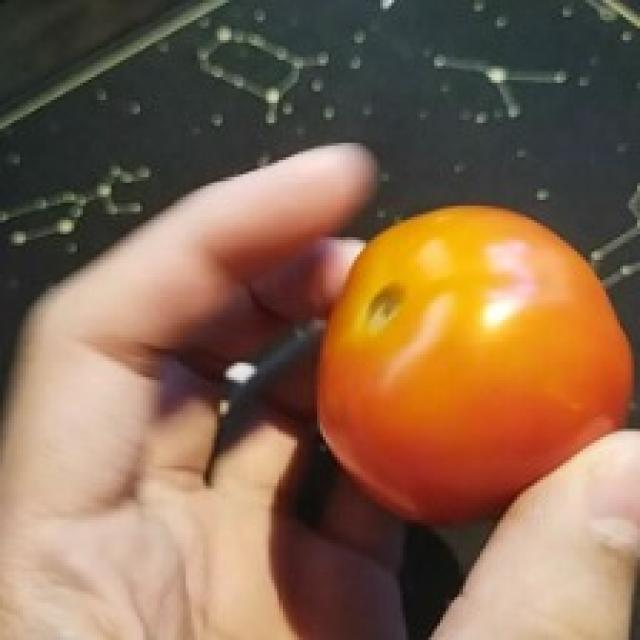Fresh Tomato: (262, 201, 632, 527)
